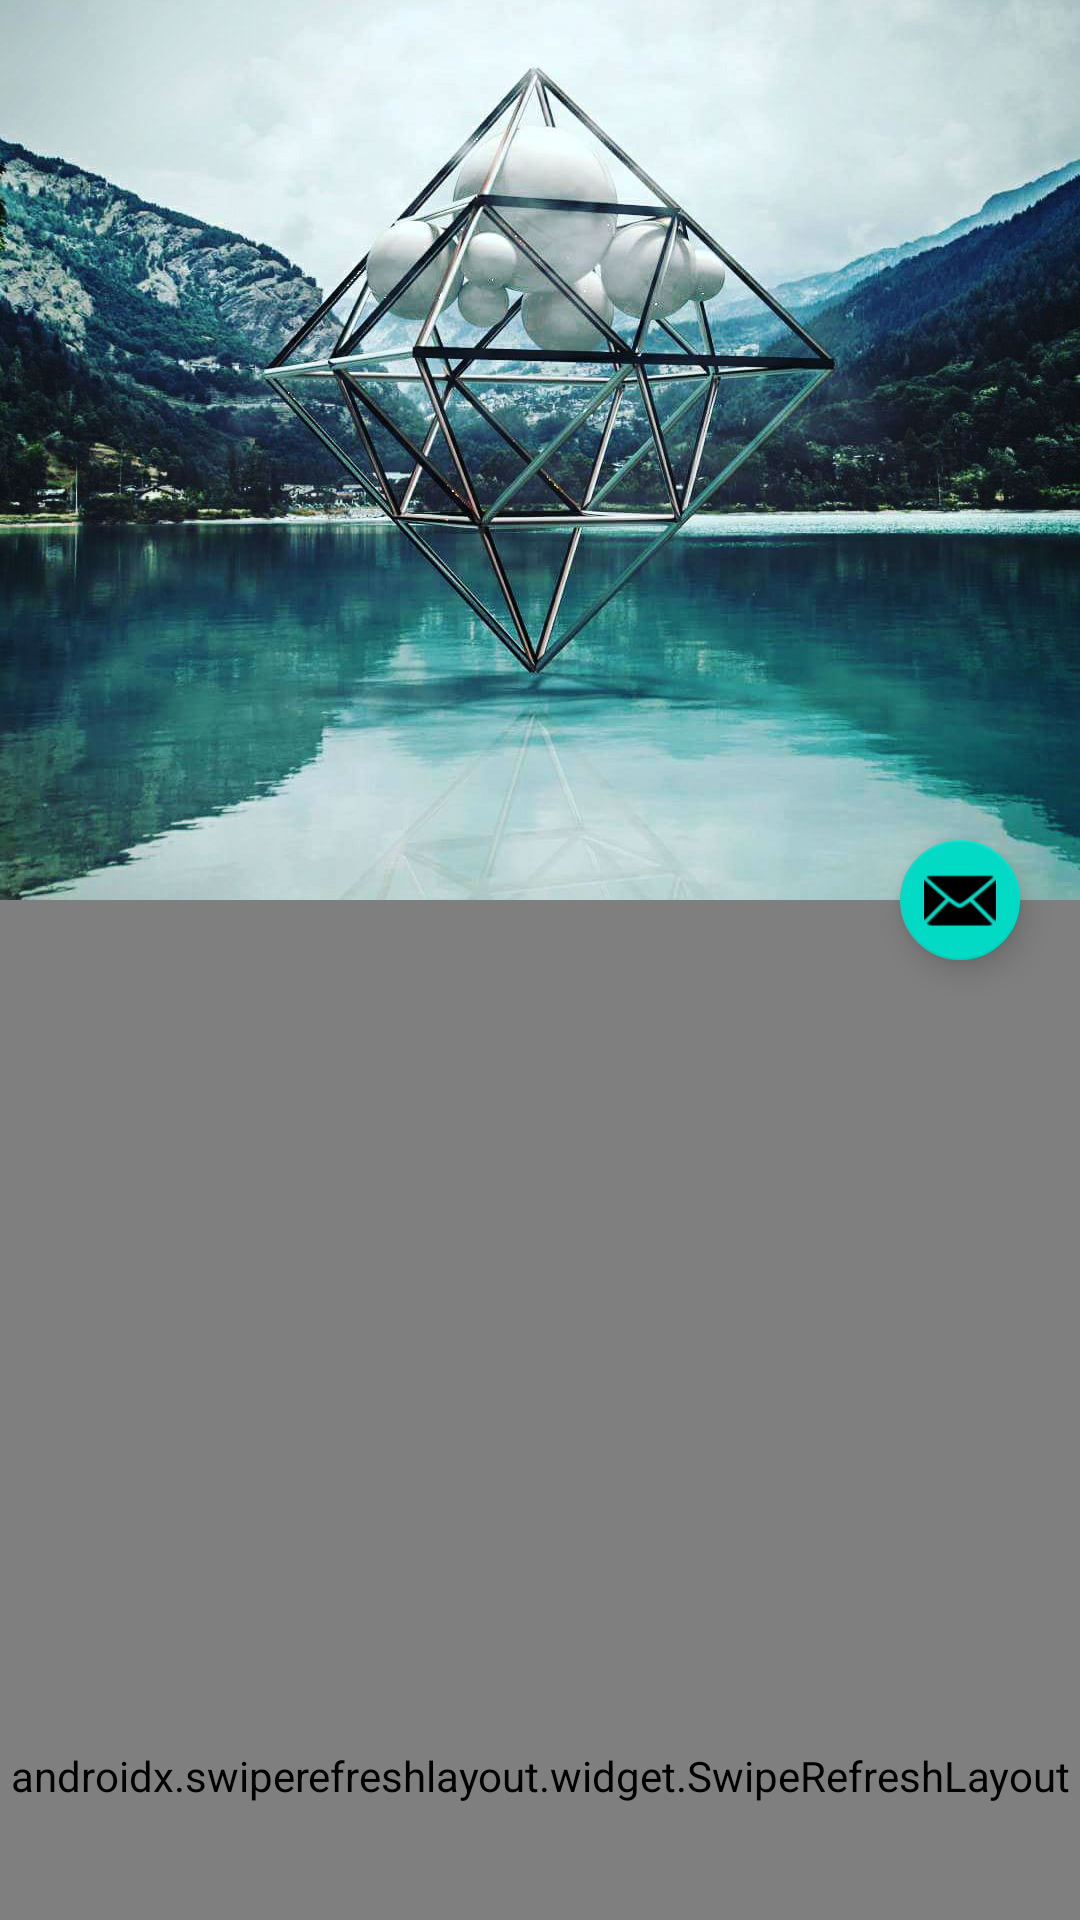

Where to tap for icons on this 1080×1920 app screen, as (x=x, y=y):
email: (x=960, y=900)
